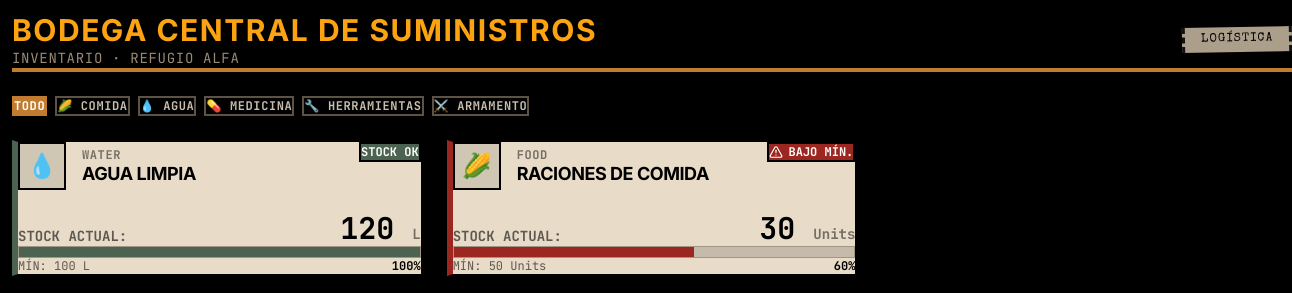
Test: InventoryView Component › filters inventory items by category button click
Click on AGUA category filter button
Click the button "💧 AGUA" at x=167, y=106, box [138,96,196,116]
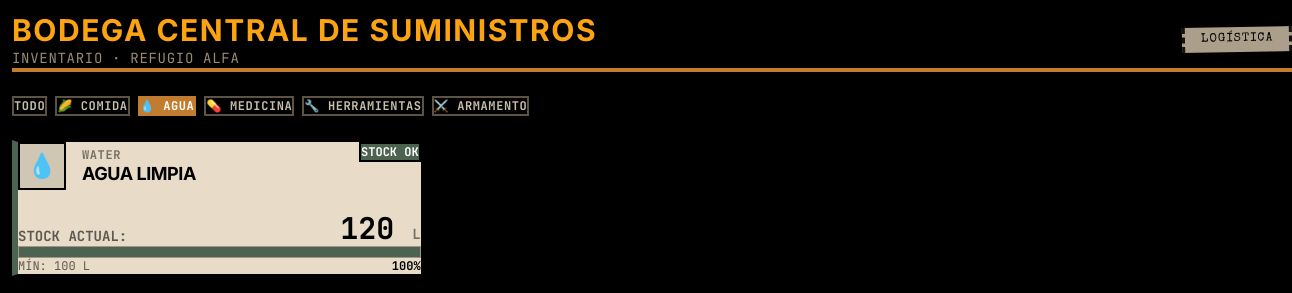
Expected: the heading "Agua limpia" is shown, [82,163,196,185]
Now the heading "Raciones de comida" is gone
Click the button "TODO" at x=30, y=106, box [12,96,47,116]
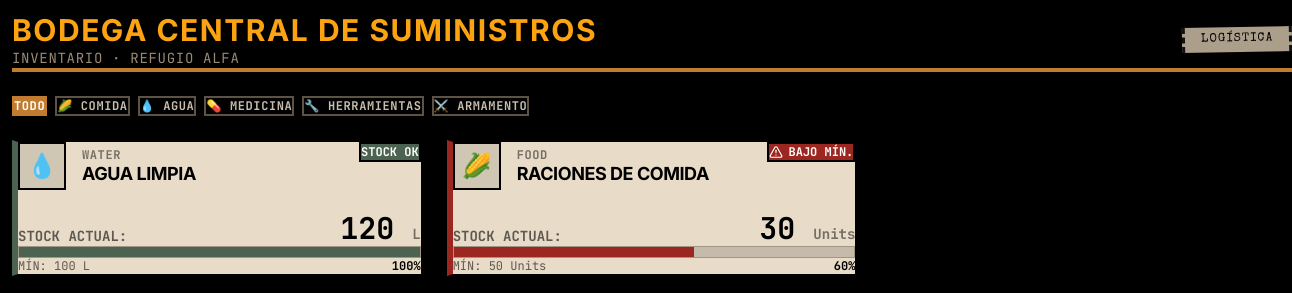
Expected: the heading "Agua limpia" is shown, [82,163,196,185]
Now the heading "Raciones de comida" is shown, box [517,163,709,185]
